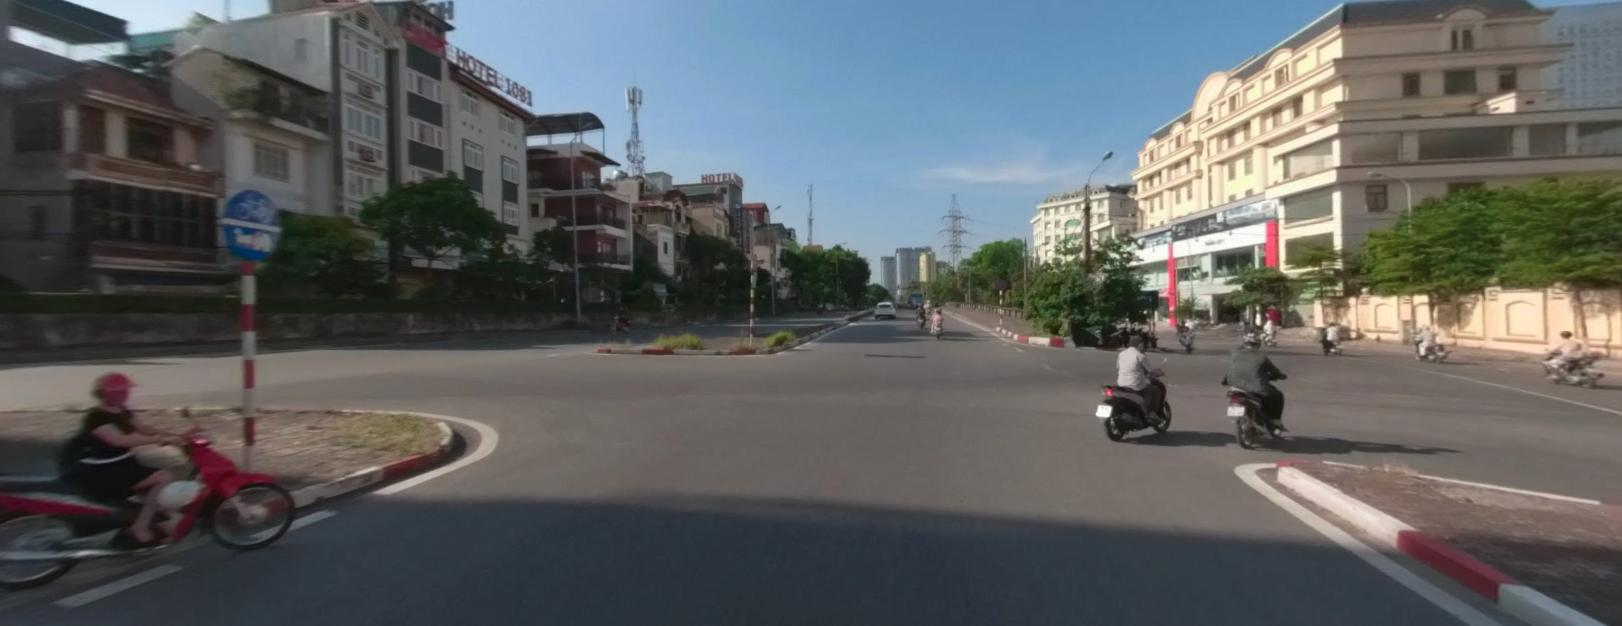Cam dung va do: (993, 277, 1007, 289)
